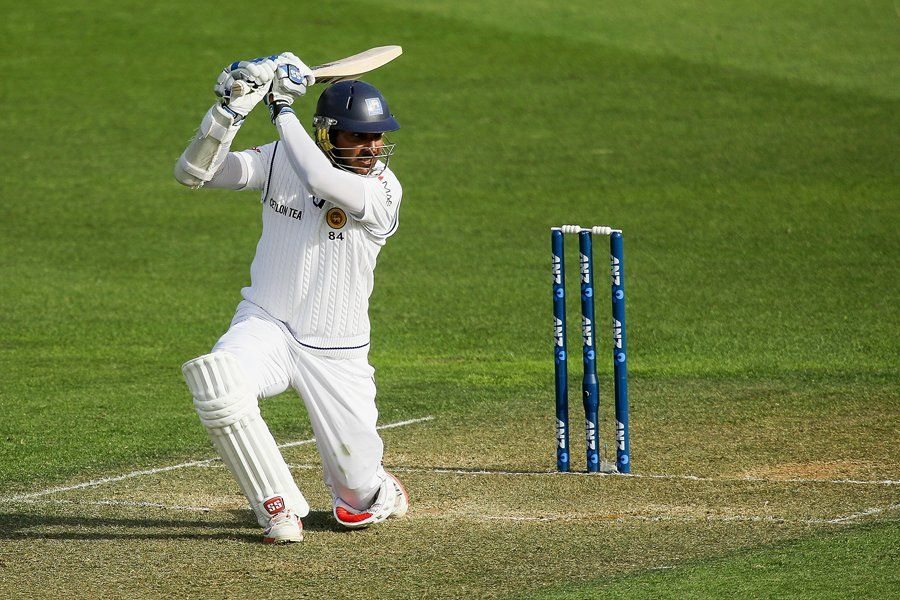Defence: (141, 0, 588, 600)
